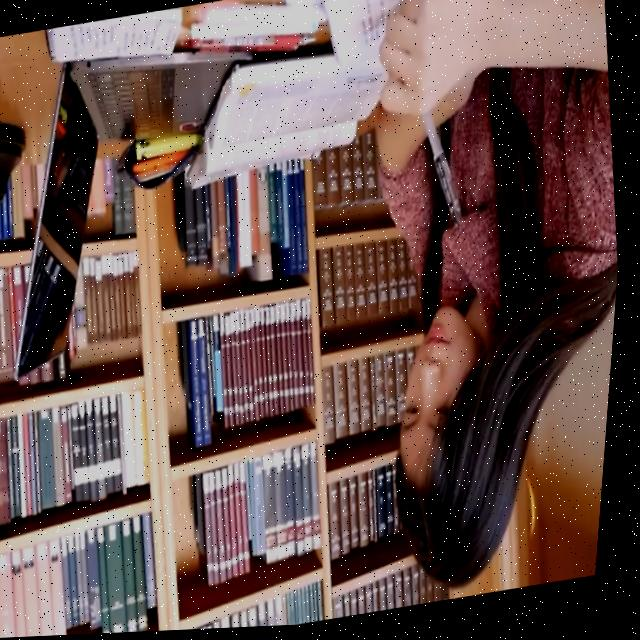studying-person: (139, 0, 640, 634)
